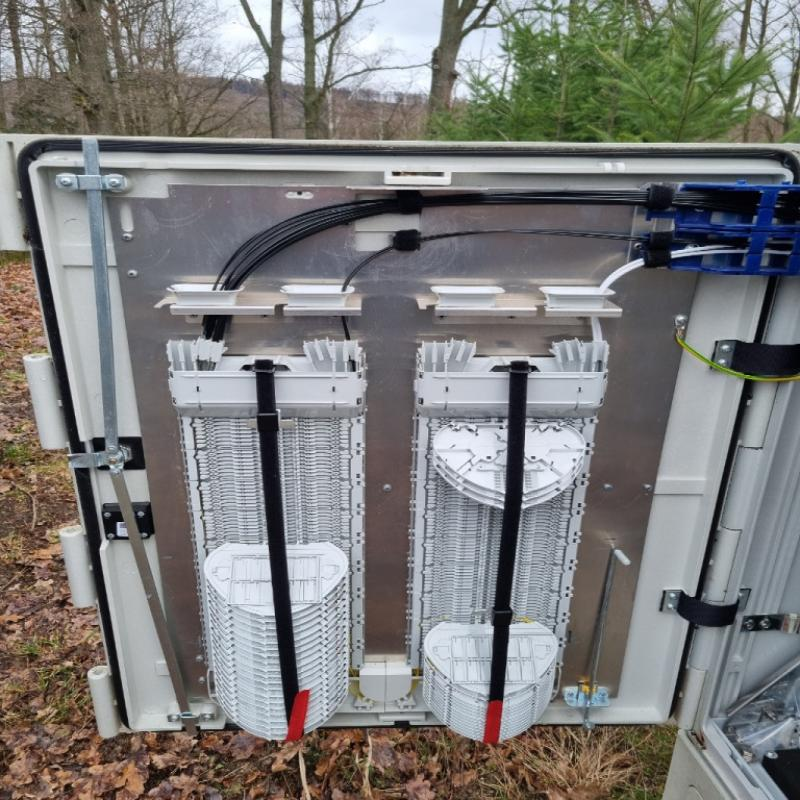NT-Gehause: (6, 135, 791, 800)
Spleiskassetten: (150, 272, 378, 747), (403, 278, 618, 750)
